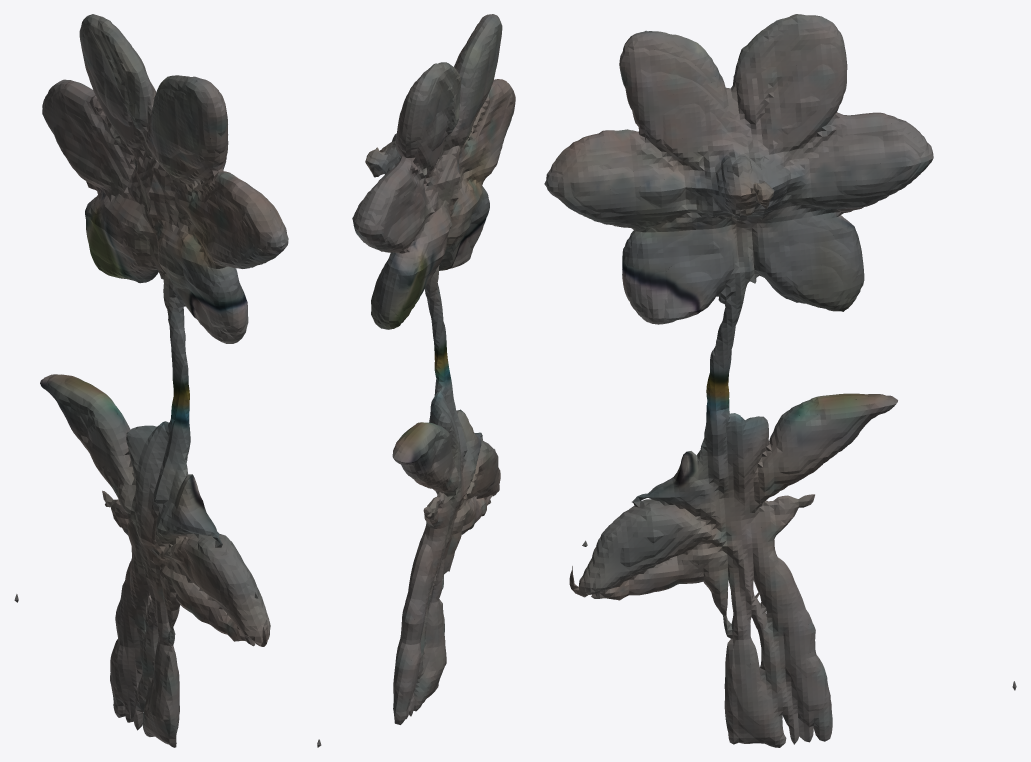
Rendered from flower_white.glb.
3 views of the same model, side by side, from view 1: azimuth 30°, elevation 25°; view 2: azimuth 150°, elevation 25°; view 3: azimuth 270°, elevation 25° (orthographic). The views are drawn at different scales.
Parts seen in each view (by area): view 1: world; view 2: world; view 3: world.
Boxes of the visible parts, x1=… form: world: x1=14, y1=14, x2=288, y2=747; world: x1=317, y1=14, x2=515, y2=747; world: x1=544, y1=14, x2=1016, y2=747.
Size of the model in its own units: 0.0917 by 0.55 by 0.3289.
1 material, 1 textured.
